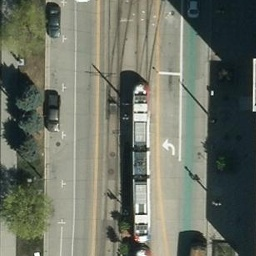car: (40, 91, 63, 130), (45, 4, 63, 39), (184, 1, 203, 18)
